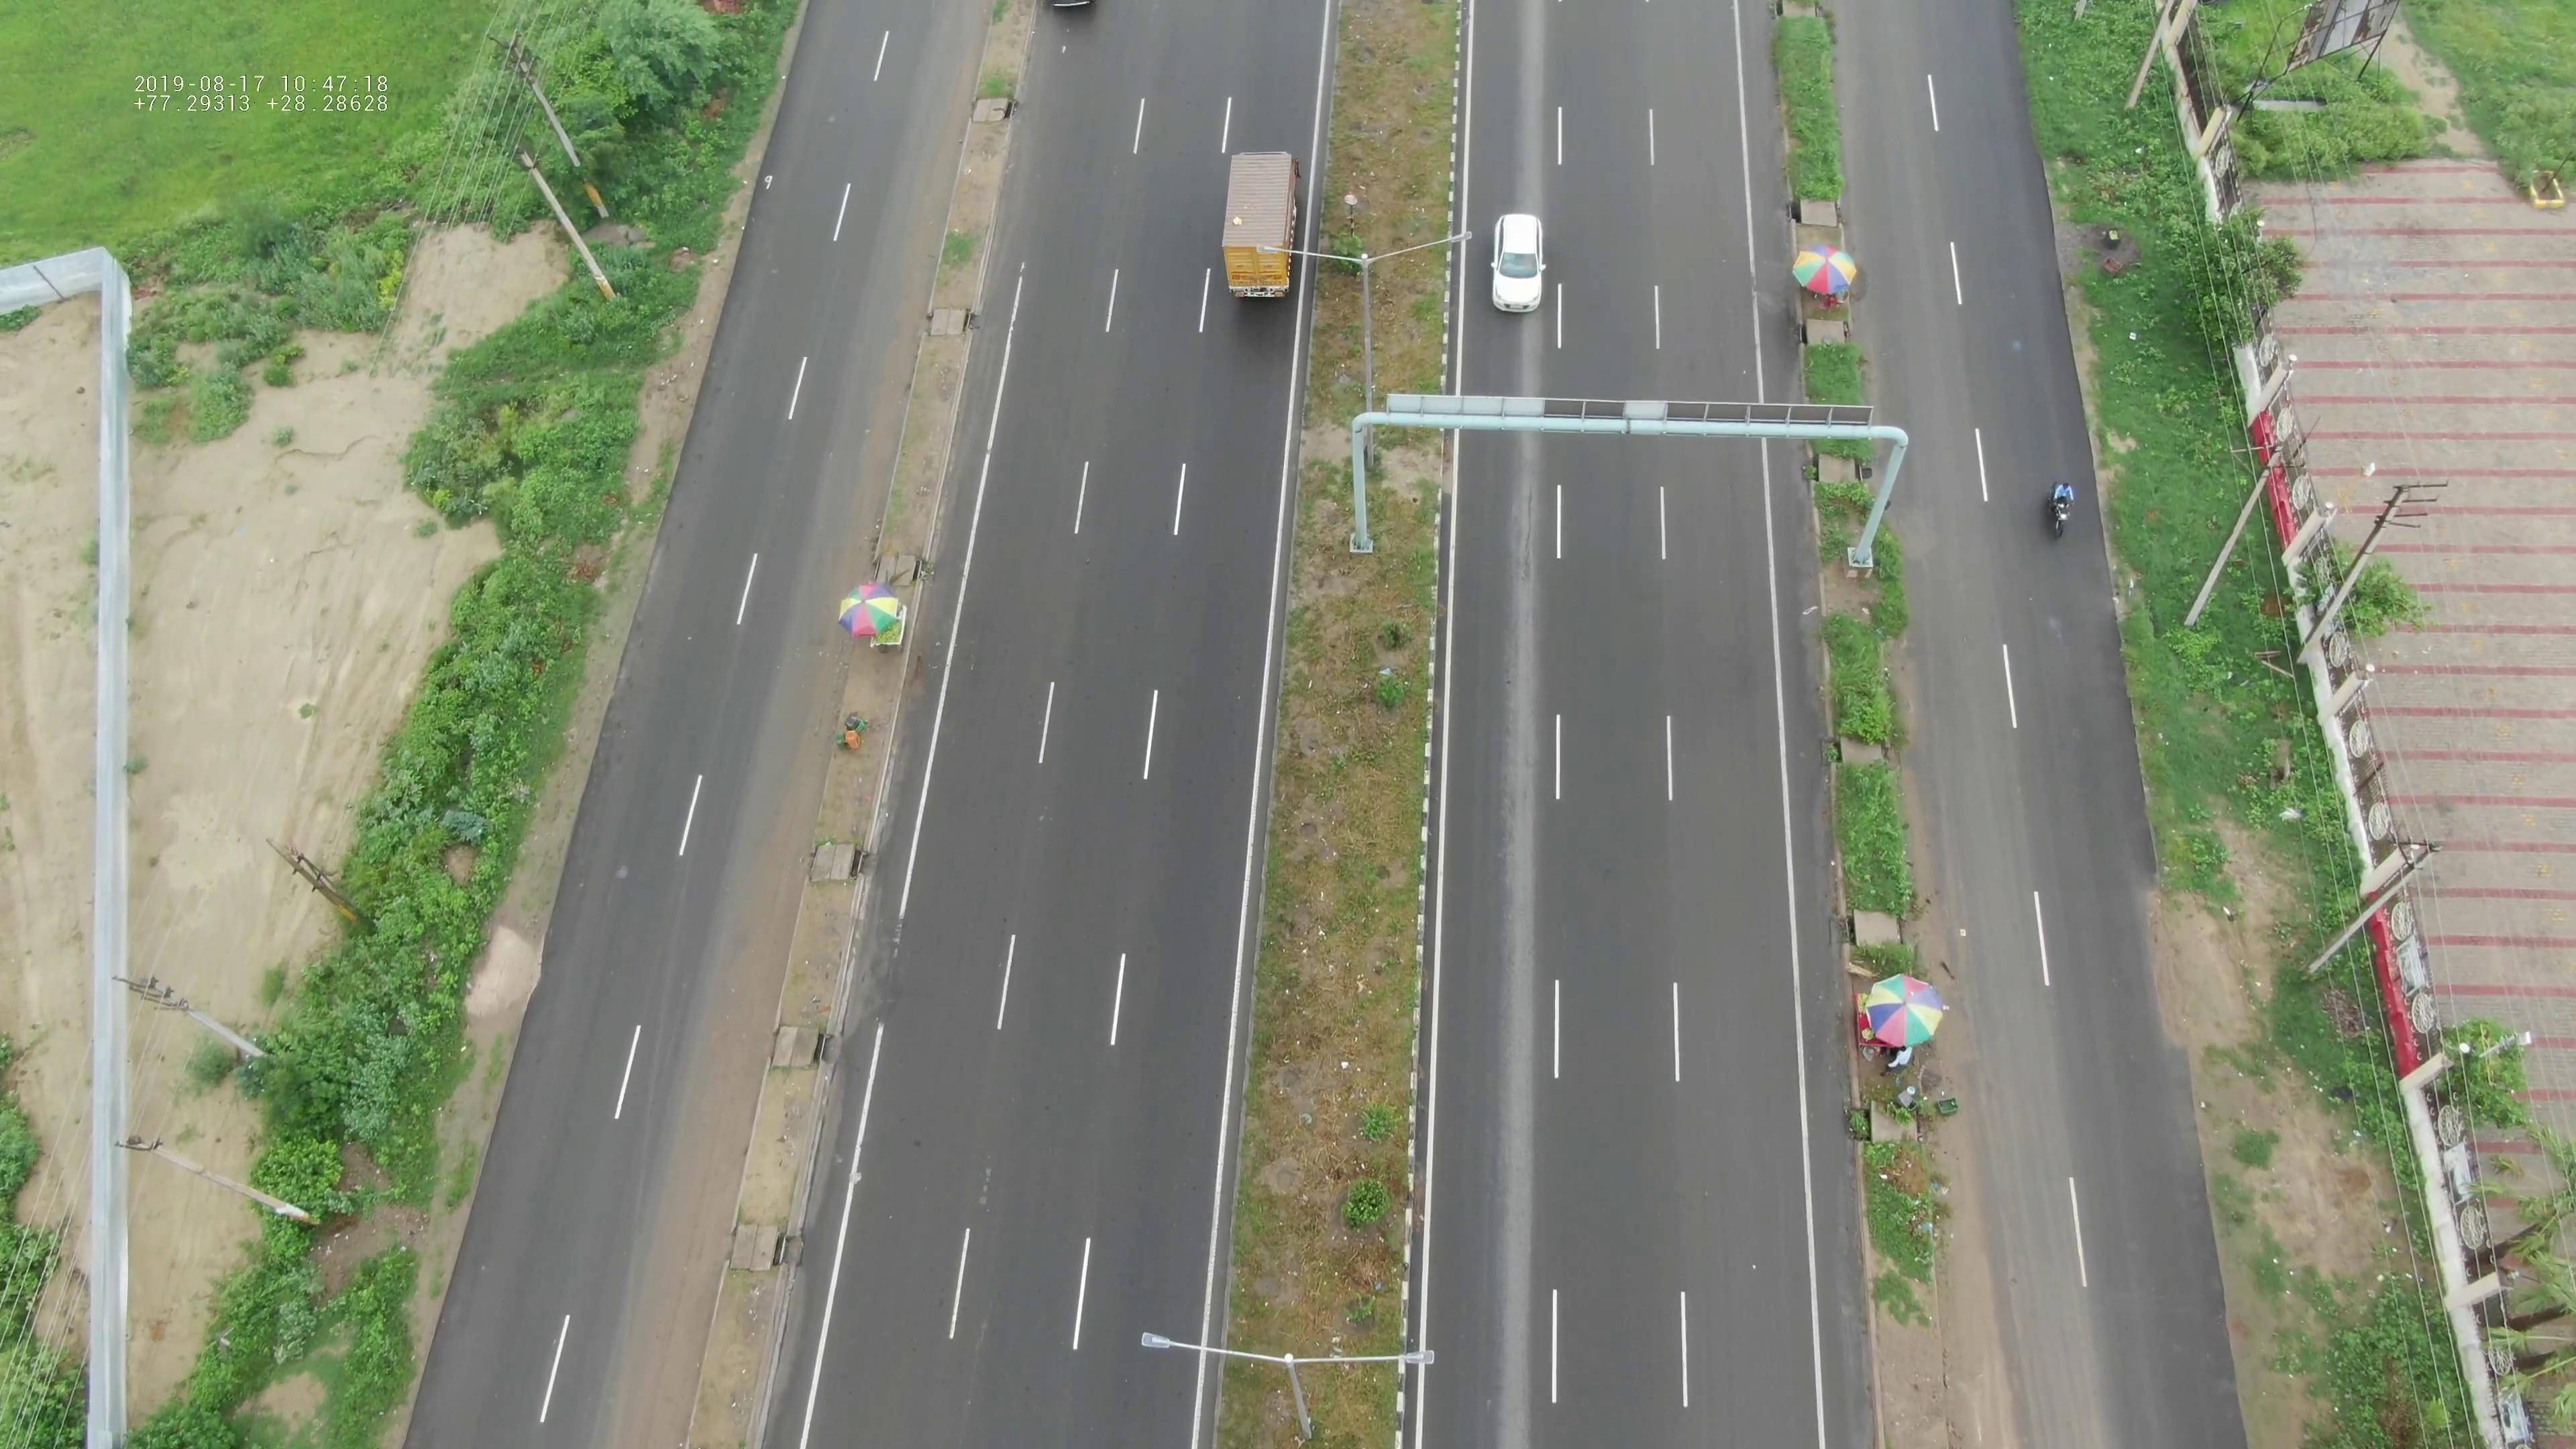Muddy_road: (2132, 899, 2229, 1062)
